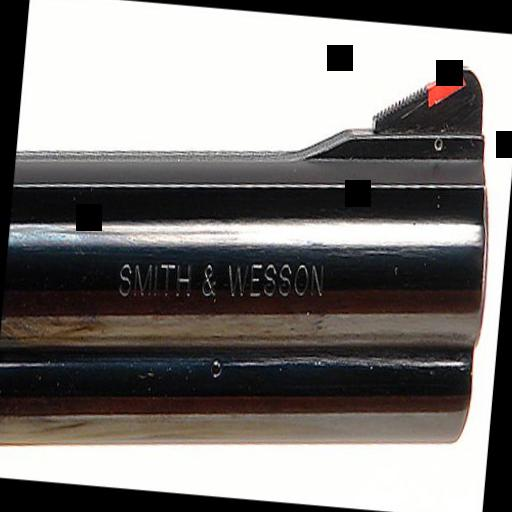Handgun: (0, 23, 503, 487)
